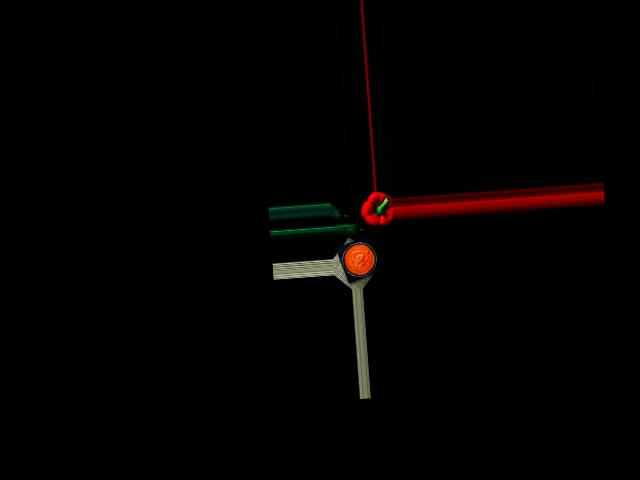bell_pepper: (360, 191, 394, 227)
